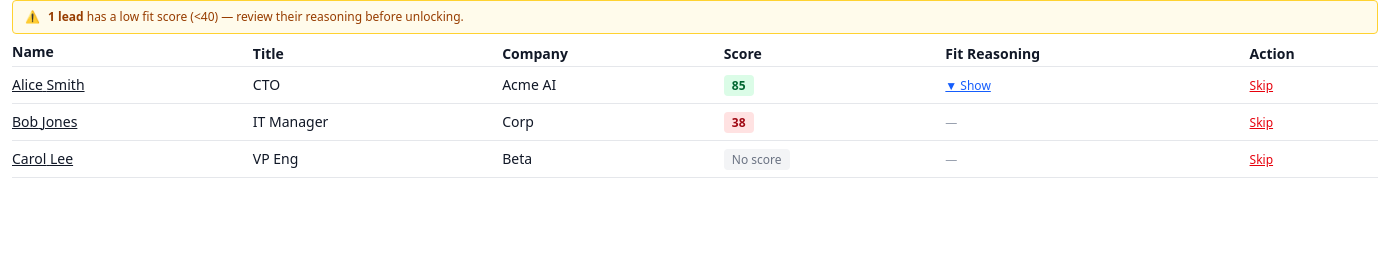
Test case: LeadApprovalTable › ReasoningCell toggles bullet list
Expected: the text "Senior title" is not shown
Click the button "▼ Show". click: (968,86)
box: [945,78,991,94]
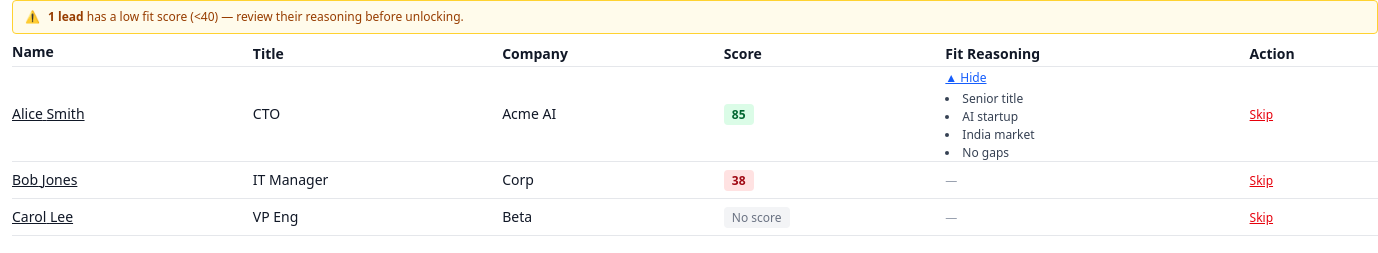
Result: the list item "Senior title" is shown at [962,90,1023,107]
Click the button "▲ Hide". click: (966,78)
box: [945,70,986,86]
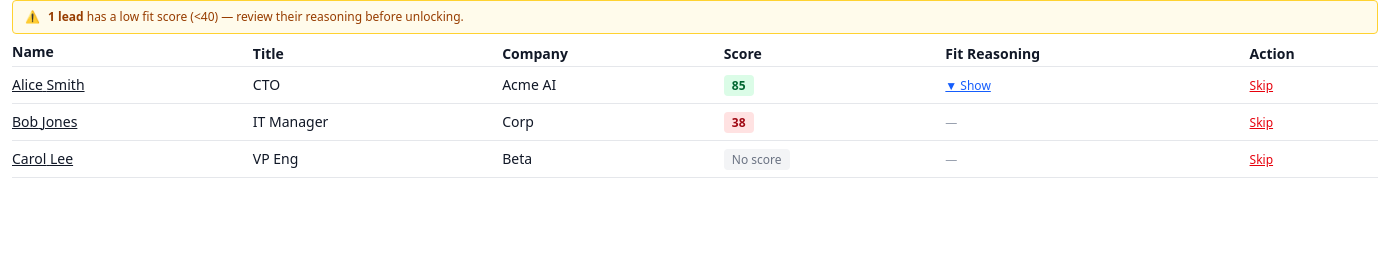
Result: the list item "Senior title" is gone
